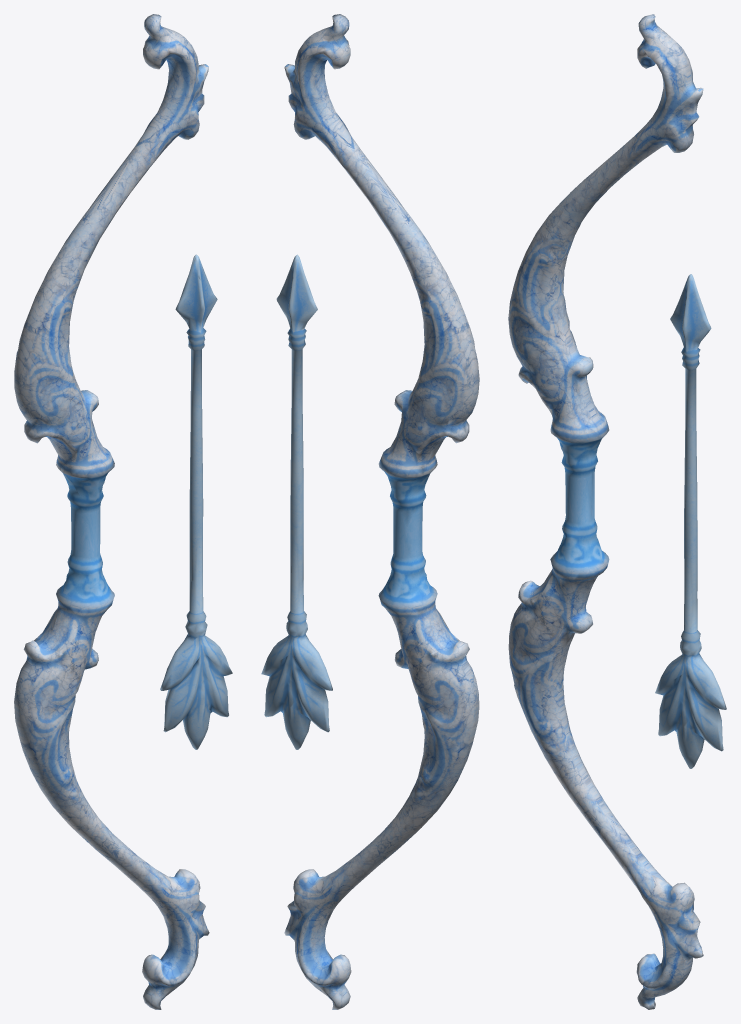
File: blue_marble_bow_and_arrow.glb
3 views of the same model, side by side, from view 1: azimuth 30°, elevation 25°; view 2: azimuth 150°, elevation 25°; view 3: azimuth 330°, elevation 25° (orthographic).
Visible parts, largest first — view 1: Bow, Arrow; view 2: Bow, Arrow; view 3: Bow, Arrow.
Boxes of the visible parts, bbox=[...] form: Bow: bbox=[14, 14, 209, 1009]; Arrow: bbox=[160, 254, 232, 749]; Bow: bbox=[284, 14, 479, 1009]; Arrow: bbox=[261, 254, 332, 749]; Bow: bbox=[508, 14, 703, 1009]; Arrow: bbox=[655, 274, 726, 768].
Bounding box in the file's own units: 0.3066 × 1.35 × 0.0739.
1 material, 1 textured.
